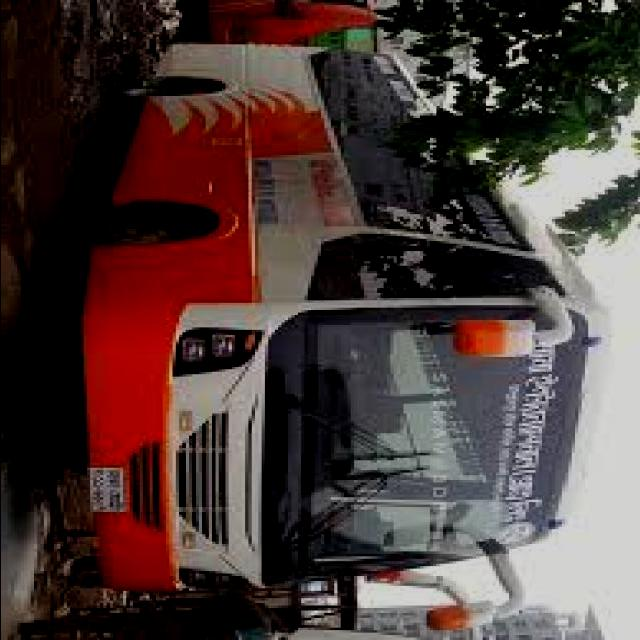bus: (44, 44, 612, 630)
